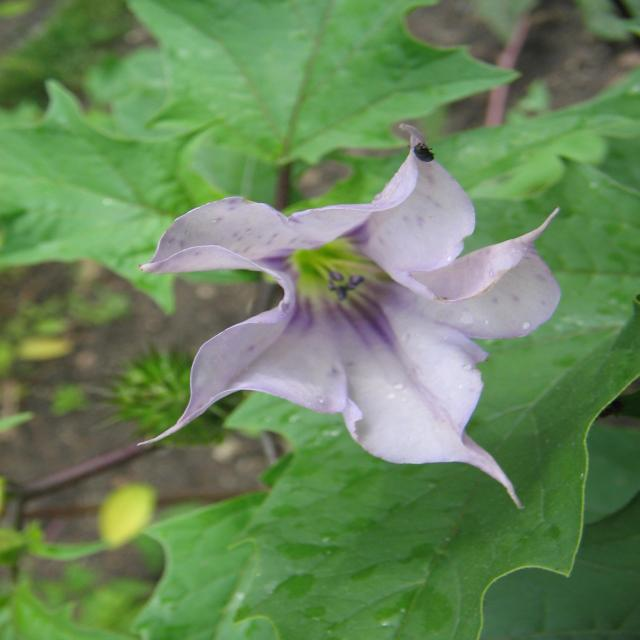Poisonous-Datura_Stramonium: (125, 120, 586, 540)
